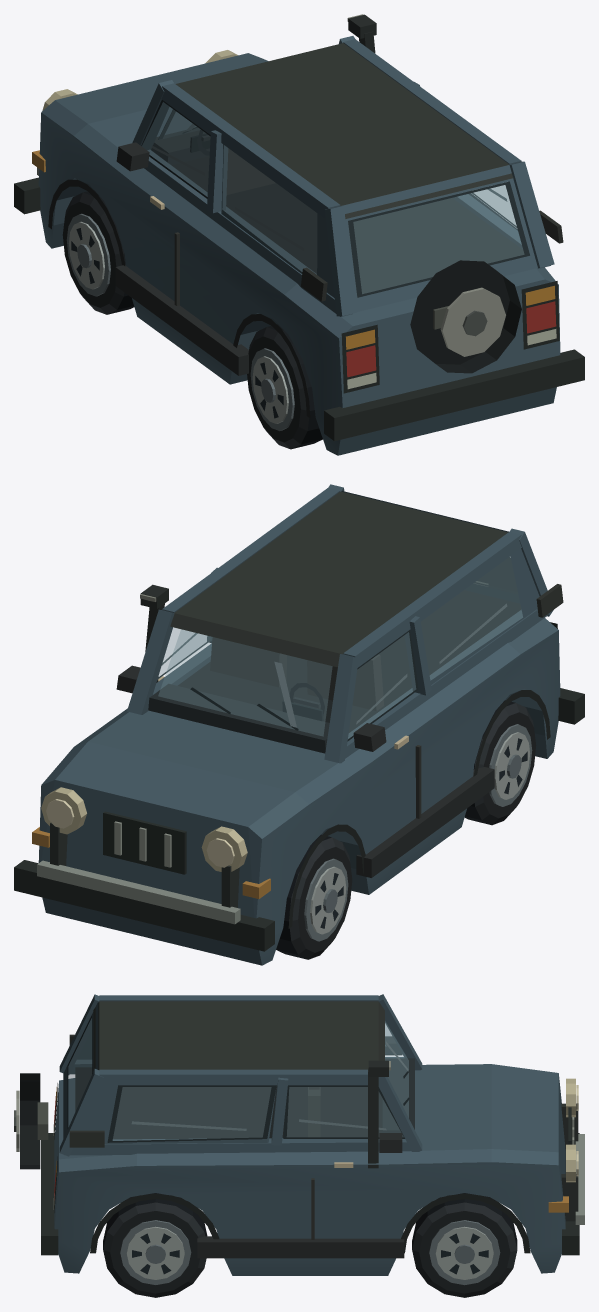
Rendered from tout_terrain_bleu_ardoise.glb.
3 renders of one model, top to bottom at view 1: azimuth 30°, elevation 25°; view 2: azimuth 150°, elevation 25°; view 3: azimuth 270°, elevation 25°, orthographic. The views are drawn at different scales.
Parts seen in each view (by area): view 1: proposition_tout_terrain_bleu_ardoise; view 2: proposition_tout_terrain_bleu_ardoise; view 3: proposition_tout_terrain_bleu_ardoise.
Part boxes in pixels (x1,y1,x2,y2): proposition_tout_terrain_bleu_ardoise: (14,14,584,455); proposition_tout_terrain_bleu_ardoise: (14,484,584,965); proposition_tout_terrain_bleu_ardoise: (14,994,584,1297).
Bounding box in the file's own units: 1.85 × 1.89 × 4.25.
